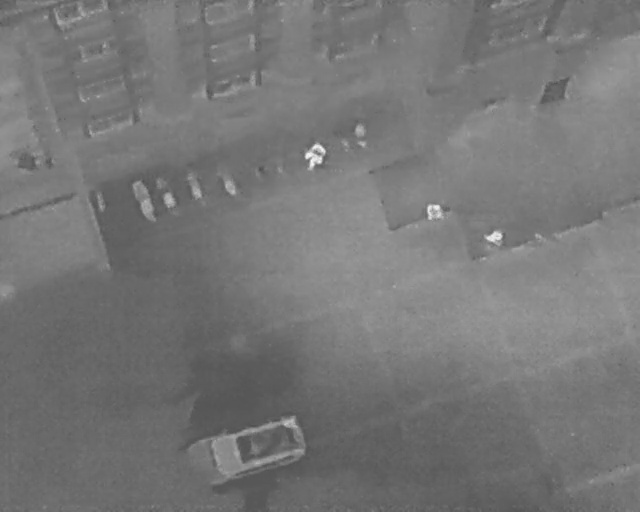Bicycle: (129, 175, 162, 226), (151, 172, 181, 215), (212, 159, 241, 199), (181, 166, 207, 204), (251, 157, 273, 181), (352, 120, 369, 149)
Car: (174, 409, 312, 495)
Person: (299, 140, 329, 175), (482, 228, 505, 247), (426, 202, 444, 222)
